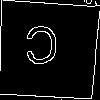C: (23, 25, 60, 75)
